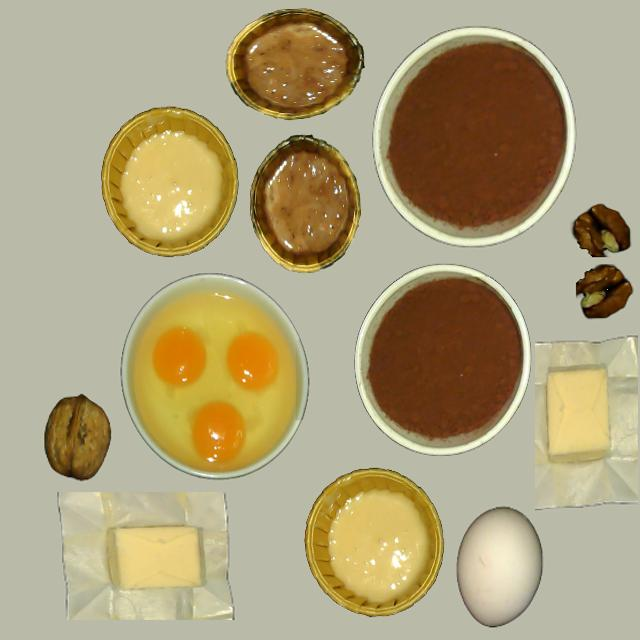Cocoa: (373, 27, 575, 248), (353, 267, 529, 454)
Egg: (191, 402, 245, 463), (152, 328, 207, 387), (226, 332, 278, 390)
Walnut: (44, 395, 110, 480)
